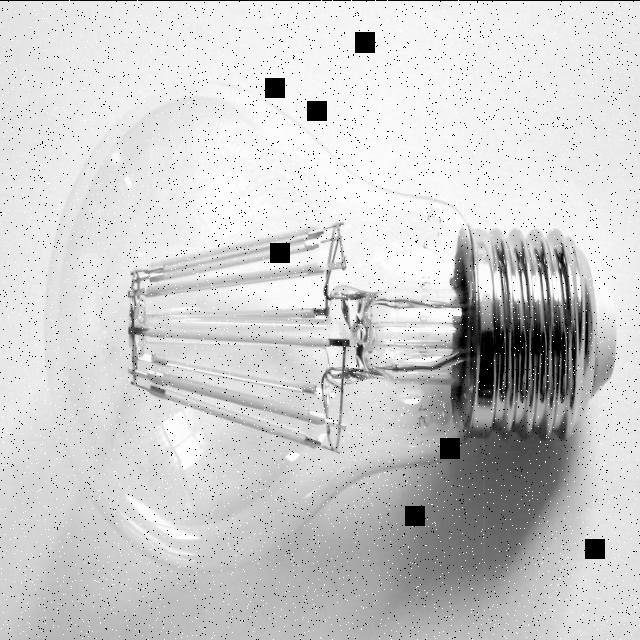light_bulb: (26, 64, 622, 596)
